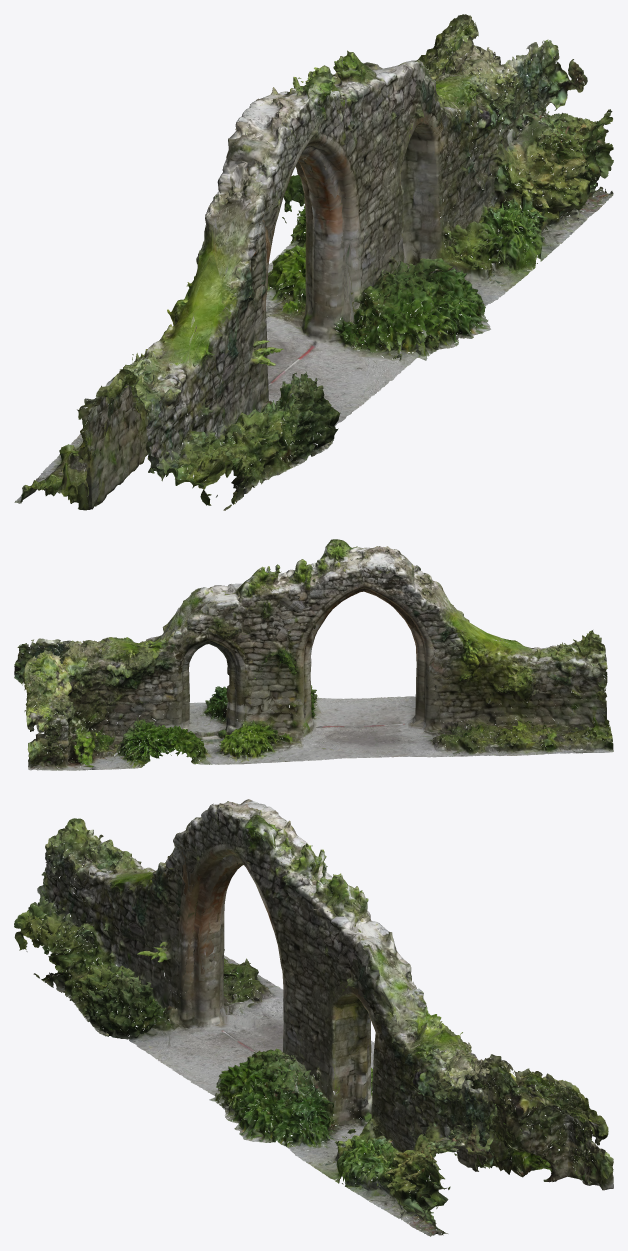
The model's file is archway-4k.glb.
3 renders of one model, top to bottom at view 1: azimuth 30°, elevation 25°; view 2: azimuth 150°, elevation 25°; view 3: azimuth 270°, elevation 25°, orthographic. The views are drawn at different scales.
Parts seen in each view (by area): view 1: Object_6, Object_2; view 2: Object_6, Object_2; view 3: Object_6, Object_2.
Part boxes in pixels (<box>): Object_6: <box>14,15,613,510</box>; Object_2: <box>23,14,613,509</box>; Object_6: <box>14,539,613,770</box>; Object_2: <box>14,541,612,770</box>; Object_6: <box>19,801,613,1236</box>; Object_2: <box>14,799,613,1233</box>.
Bounding box in the file's own units: 15.05 × 5.51 × 11.62.
2 materials, 2 textured.
